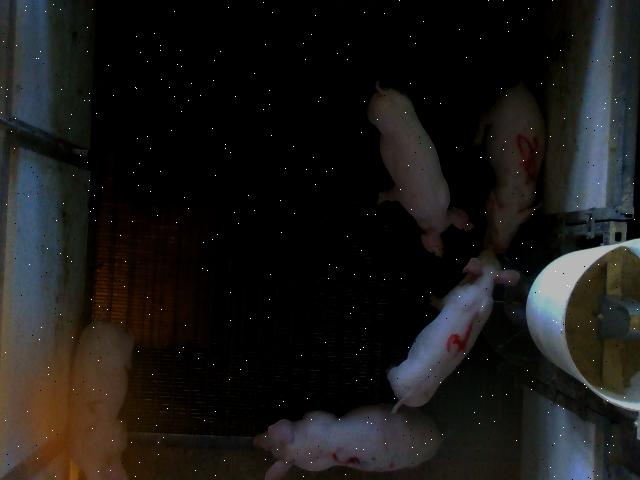pig-2: (70, 319, 134, 478)
pig-3: (254, 404, 442, 479)
pig-4: (388, 249, 519, 412)
pig-5: (472, 78, 545, 254)
